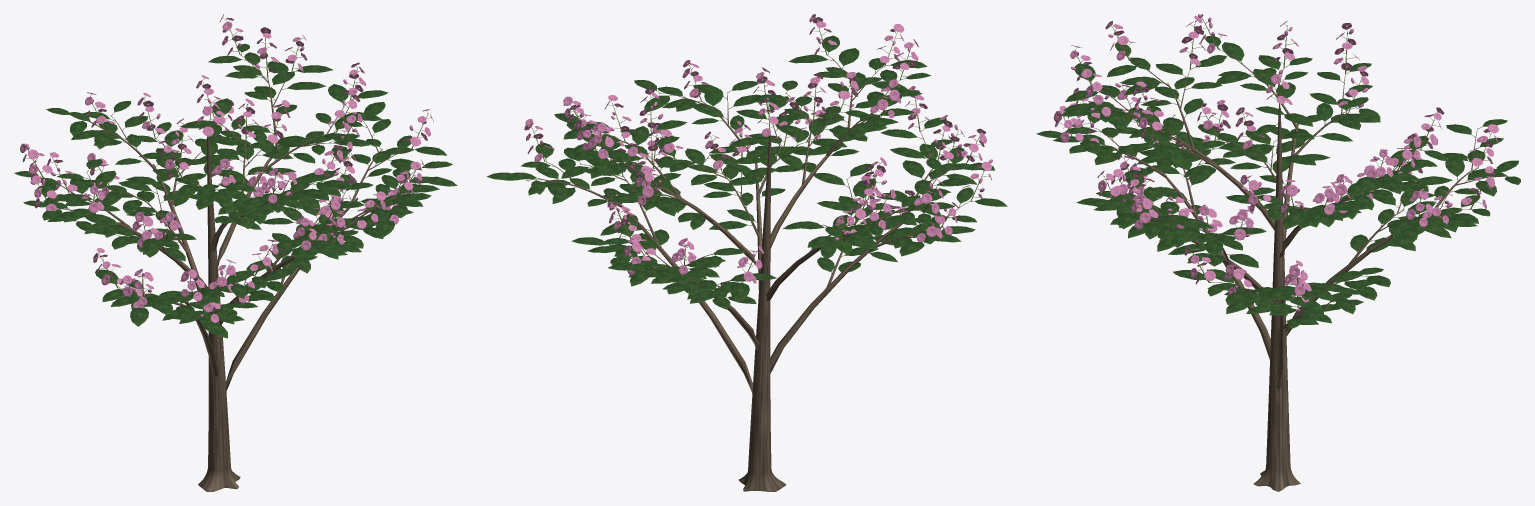
Rendered from floweringtreeb.glb.
3 views of the same model, side by side, from view 1: azimuth 30°, elevation 25°; view 2: azimuth 150°, elevation 25°; view 3: azimuth 270°, elevation 25° (orthographic). The views are drawn at different scales.
Visible parts, largest first — view 1: Foliage, Flowers, Bark, Stems; view 2: Foliage, Bark, Flowers, Stems; view 3: Foliage, Flowers, Bark, Stems.
Part boxes in pixels (left/top/right/bottom): Foliage: left=14, top=43, right=457, bottom=338; Flowers: left=20, top=14, right=433, bottom=323; Bark: left=45, top=55, right=414, bottom=491; Stems: left=25, top=18, right=430, bottom=318; Foliage: left=487, top=35, right=1007, bottom=309; Bark: left=528, top=55, right=969, bottom=491; Flowers: left=524, top=14, right=992, bottom=283; Stems: left=524, top=19, right=988, bottom=297; Foliage: left=1036, top=36, right=1520, bottom=328; Flowers: left=1053, top=14, right=1498, bottom=311; Bark: left=1074, top=49, right=1504, bottom=491; Stems: left=1059, top=18, right=1507, bottom=321.
Bounding box in the file's own units: 2.62 × 2.45 × 2.55.
4 materials, 2 textured.
